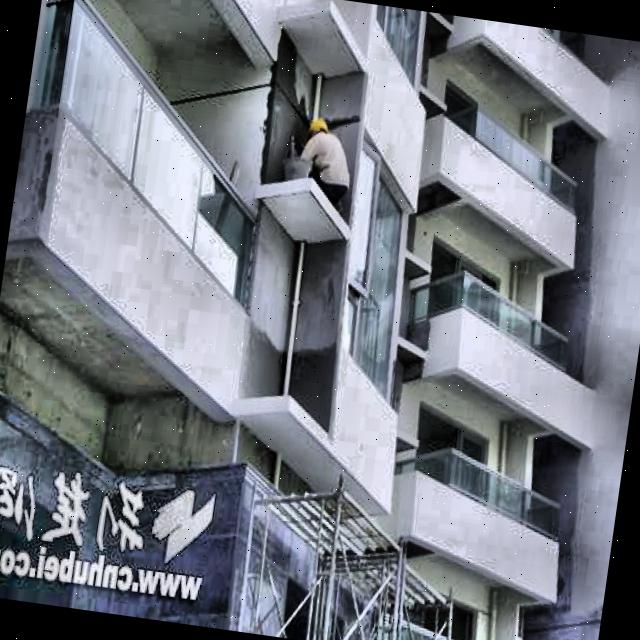helmet: (302, 112, 333, 150)
